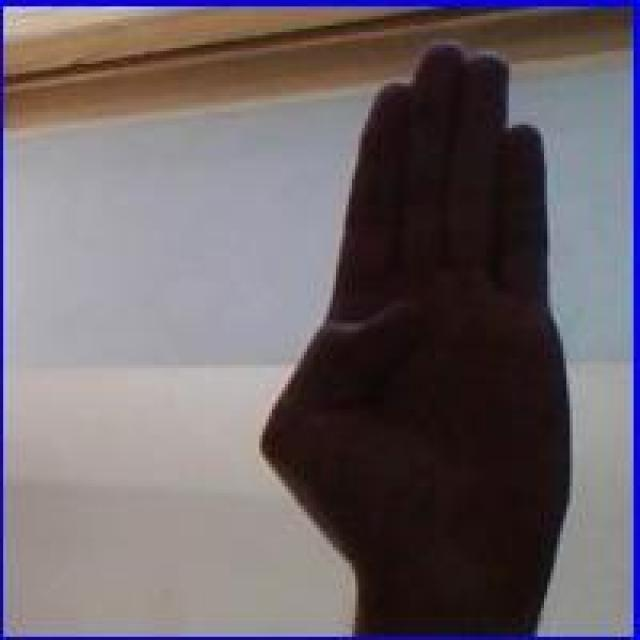B: (251, 40, 587, 603)
